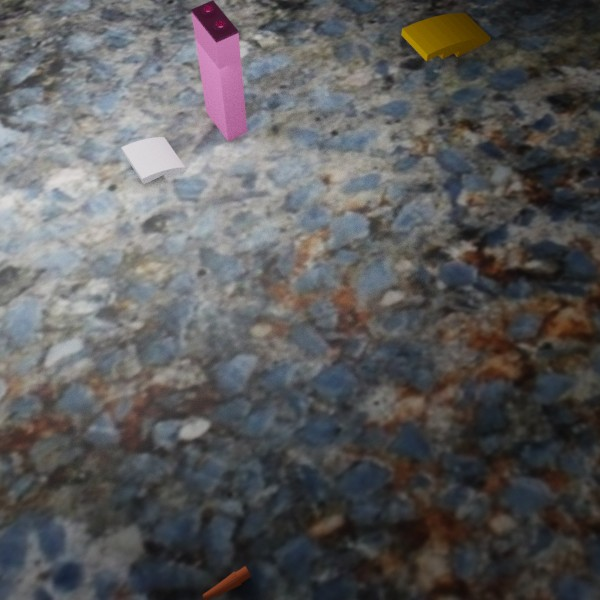lego: (191, 0, 247, 141), (401, 13, 490, 61), (121, 137, 185, 184), (202, 566, 251, 600)
